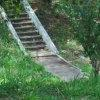stairs: (0, 6, 60, 62)
